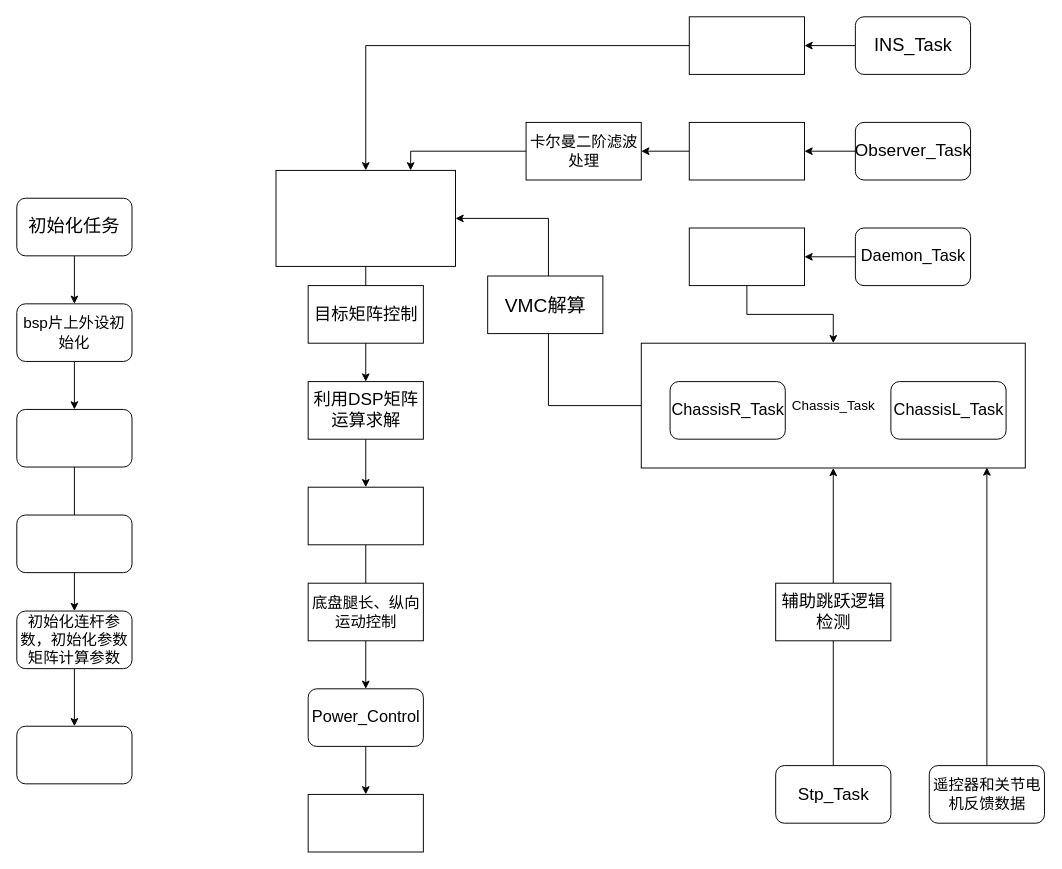
Image size: 1062x869. Some labels were removed from this diagram. Each missing label, with the centre of its shape:
"INS陀螺仪初始化" goes at (74,437).
"关节电机输出" goes at (365,822).
"四连杆逆运动学求解" goes at (365,515).
"底盘电机初始化" goes at (74,543).
"开启任务调度" goes at (74,754).
"检测遥控器是否离线" goes at (746,256).
"状态矩阵更新" goes at (365,217).
"获取实时位移和速度" goes at (746,150).
"获取陀螺仪参数" goes at (746,45).
